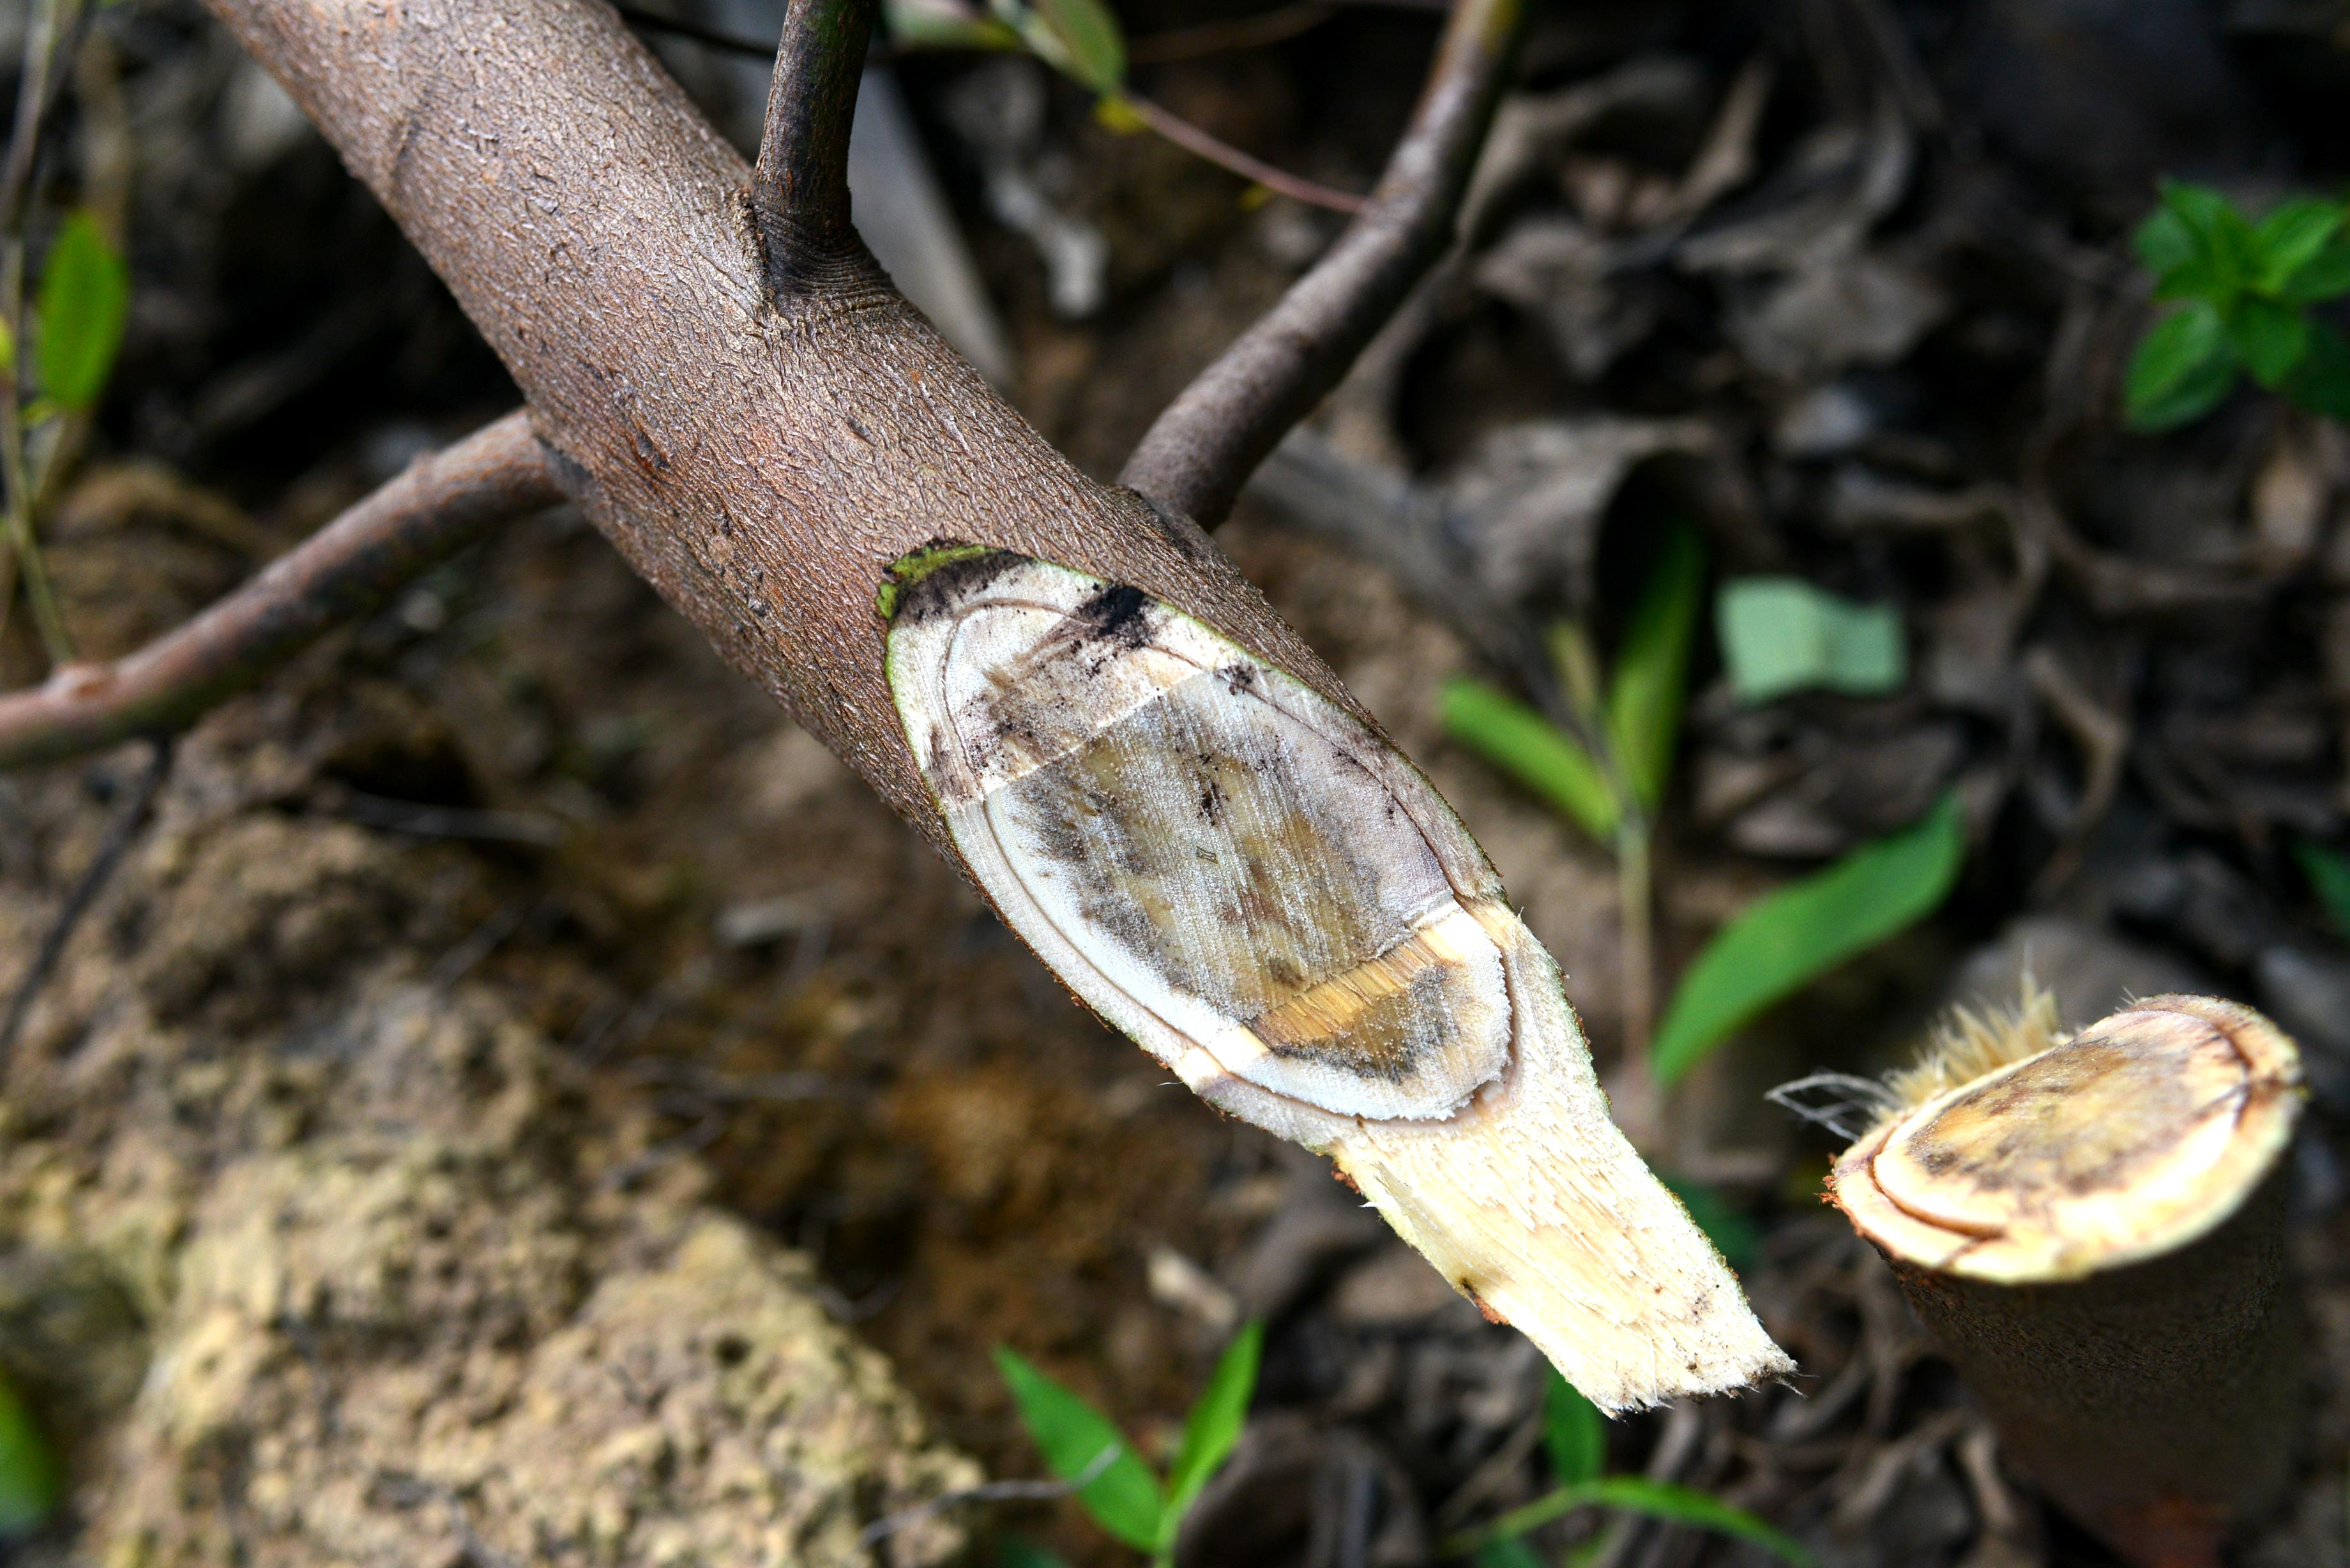Ralstonia: (1106, 682, 1276, 1038), (1895, 1034, 2203, 1204), (969, 660, 1134, 952), (1237, 726, 1405, 966), (1314, 959, 1459, 1099)
